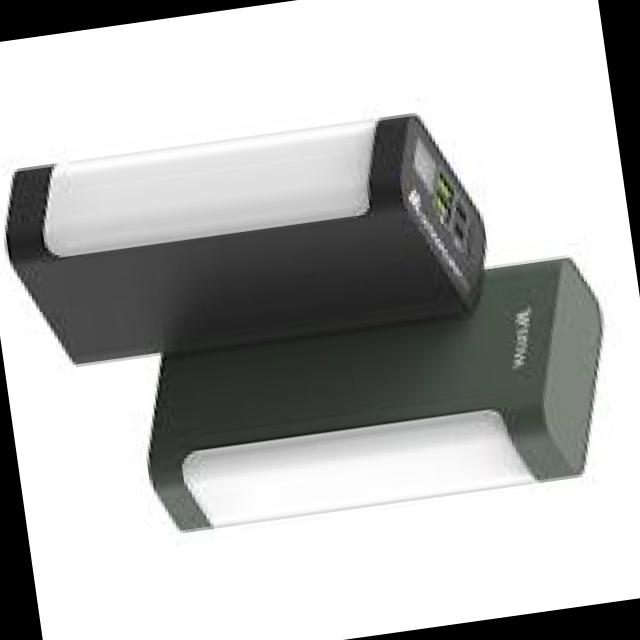power_bank: (120, 245, 630, 545), (0, 102, 504, 378)
